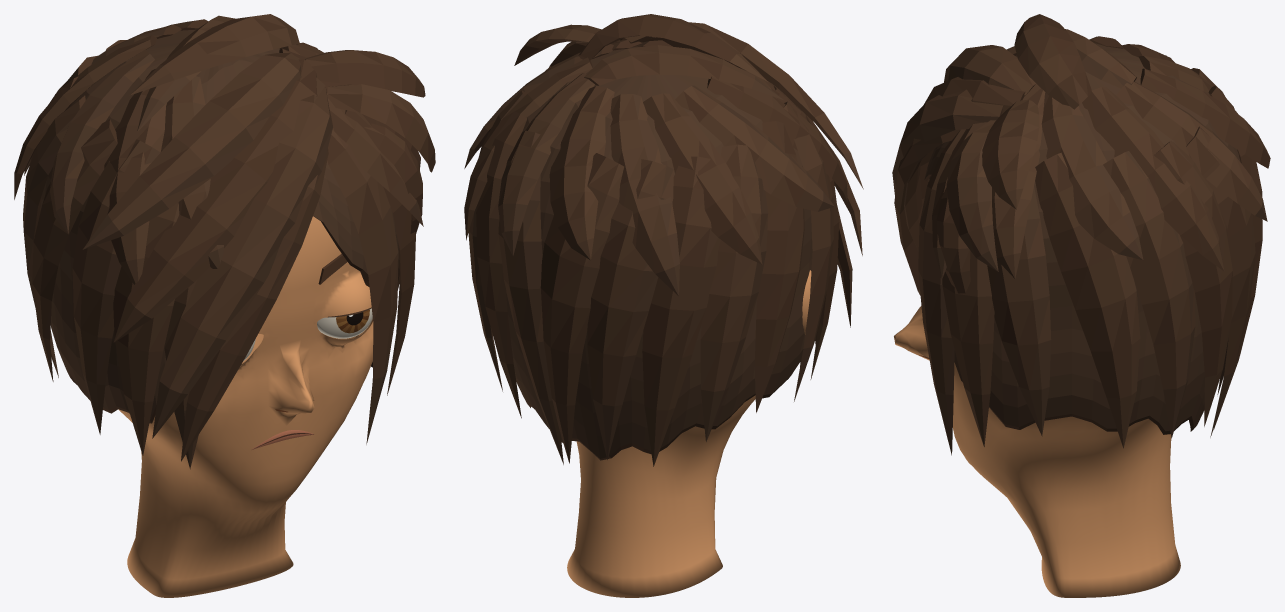
File: base-4-corte-1.glb
The picture shows the model from 3 angles, left to right: view 1: azimuth 30°, elevation 25°; view 2: azimuth 150°, elevation 25°; view 3: azimuth 270°, elevation 25°; orthographic projection. The views are drawn at different scales.
Parts seen in each view (by area): view 1: CorteF01_MechasEditaveis005_2, RCL_Base_Feminina_04, CorteF01_MechasEditaveis005_1, CorteF01_MechasEditaveis005_3, CorteF01_MechasEditaveis005, RCL_nose_Pele, RCL_eye-R_Pele, RCL_eye-L_Pele, RCL_Globo_0037; view 2: CorteF01_MechasEditaveis005_2, CorteF01_MechasEditaveis005_3, CorteF01_MechasEditaveis005_1, CorteF01_MechasEditaveis005, RCL_Base_Feminina_04; view 3: CorteF01_MechasEditaveis005_2, CorteF01_MechasEditaveis005_3, CorteF01_MechasEditaveis005_1, RCL_Base_Feminina_04, CorteF01_MechasEditaveis005, RCL_nose_Pele.
Part boxes in pixels (box(x1,y1,x2,y2)): CorteF01_MechasEditaveis005_2: box(14, 14, 435, 411); RCL_Base_Feminina_04: box(118, 216, 373, 597); CorteF01_MechasEditaveis005_1: box(14, 15, 433, 461); CorteF01_MechasEditaveis005_3: box(22, 16, 434, 423); CorteF01_MechasEditaveis005: box(23, 28, 431, 469); RCL_nose_Pele: box(267, 339, 314, 425); RCL_eye-R_Pele: box(302, 267, 372, 360); RCL_eye-L_Pele: box(235, 311, 279, 380); RCL_Globo_0037: box(317, 308, 372, 338); CorteF01_MechasEditaveis005_2: box(464, 14, 852, 410); CorteF01_MechasEditaveis005_3: box(471, 14, 859, 460); CorteF01_MechasEditaveis005_1: box(464, 28, 862, 466); CorteF01_MechasEditaveis005: box(464, 41, 863, 464); RCL_Base_Feminina_04: box(567, 395, 755, 597); CorteF01_MechasEditaveis005_2: box(898, 14, 1269, 398); CorteF01_MechasEditaveis005_3: box(898, 14, 1270, 434); CorteF01_MechasEditaveis005_1: box(894, 23, 1269, 448); RCL_Base_Feminina_04: box(952, 362, 1180, 597); CorteF01_MechasEditaveis005: box(892, 36, 1267, 455); RCL_nose_Pele: box(894, 306, 929, 360).
Bounding box in the file's own units: 0.222 × 0.3331 × 0.2118.
